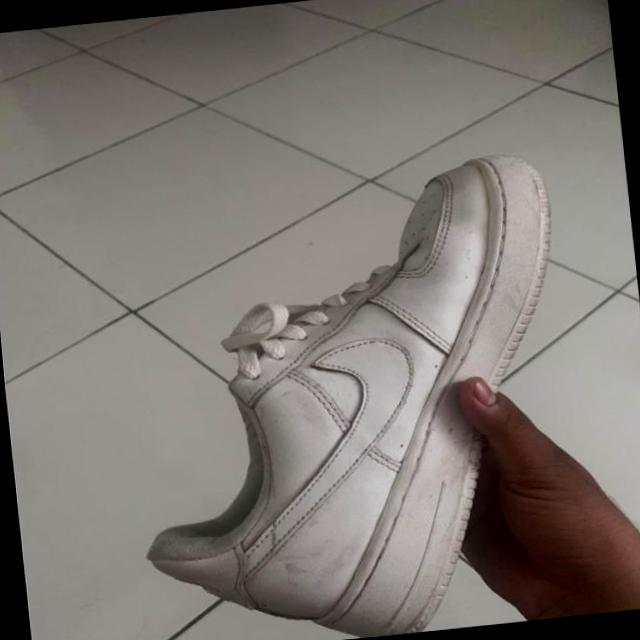nike_fake_airforce: (111, 139, 640, 640)
